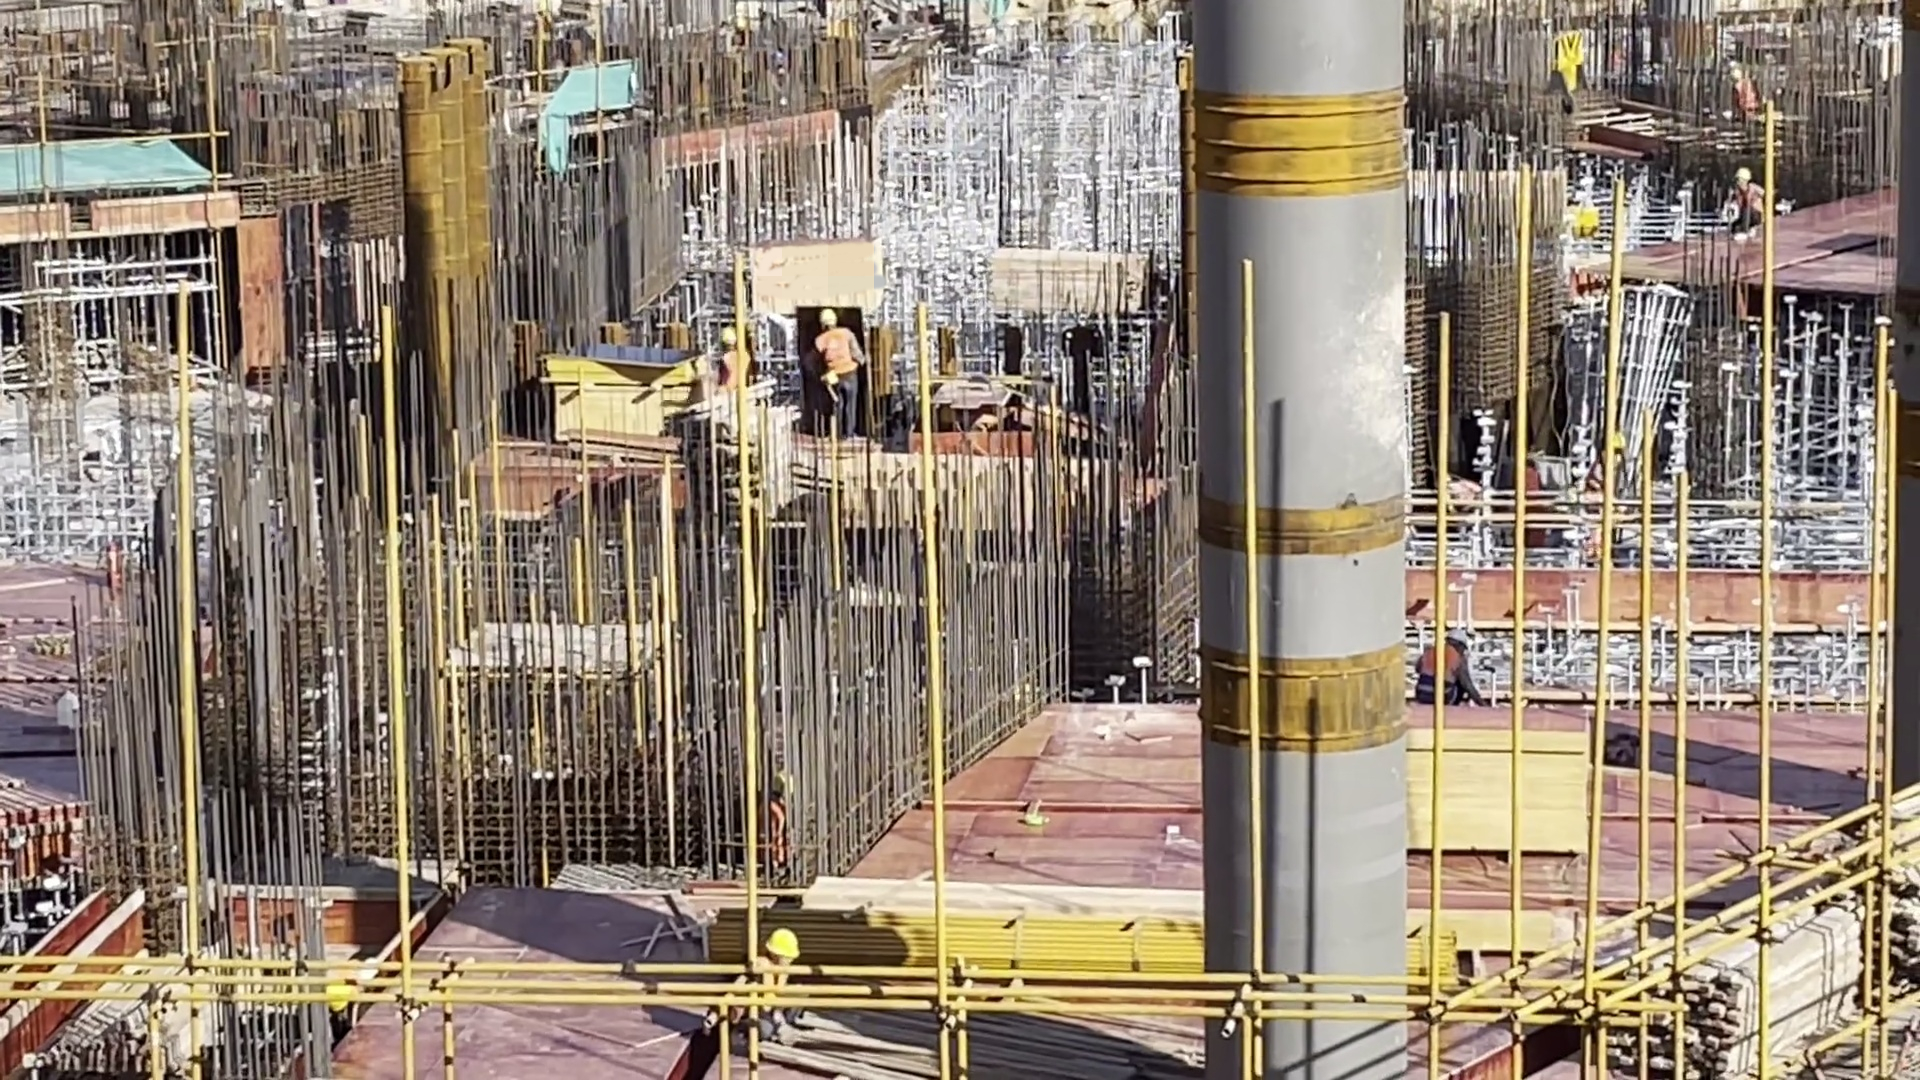board: (1389, 716, 1609, 862), (979, 227, 1161, 327)
helmet: (771, 934, 806, 952), (818, 308, 843, 331), (720, 325, 742, 348), (770, 773, 795, 791), (1444, 632, 1472, 647), (1608, 435, 1629, 452), (1736, 165, 1752, 186), (1528, 442, 1549, 458), (1432, 476, 1454, 488), (1734, 69, 1743, 79)
hook: (1526, 24, 1601, 82)
person: (739, 928, 811, 1043), (814, 305, 863, 421), (1426, 626, 1479, 718), (754, 770, 804, 863), (1732, 160, 1784, 245), (1433, 466, 1486, 518), (1729, 60, 1762, 138), (1525, 444, 1549, 545), (1599, 430, 1629, 503), (713, 328, 734, 396)
vest: (739, 961, 793, 1031), (821, 319, 851, 382), (763, 799, 796, 854), (1423, 649, 1465, 684), (1448, 479, 1487, 512), (1589, 459, 1616, 502), (726, 354, 751, 392), (1530, 469, 1550, 509), (1733, 182, 1761, 206), (1741, 76, 1751, 115)
wood: (686, 416, 808, 517)
